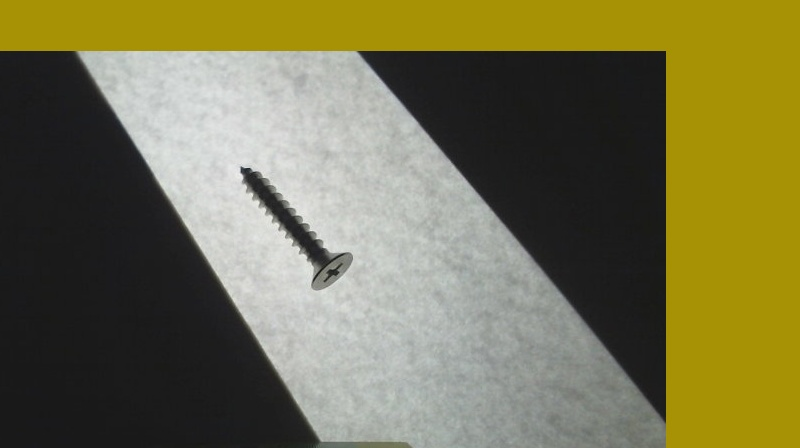S001: (236, 166, 355, 295)
